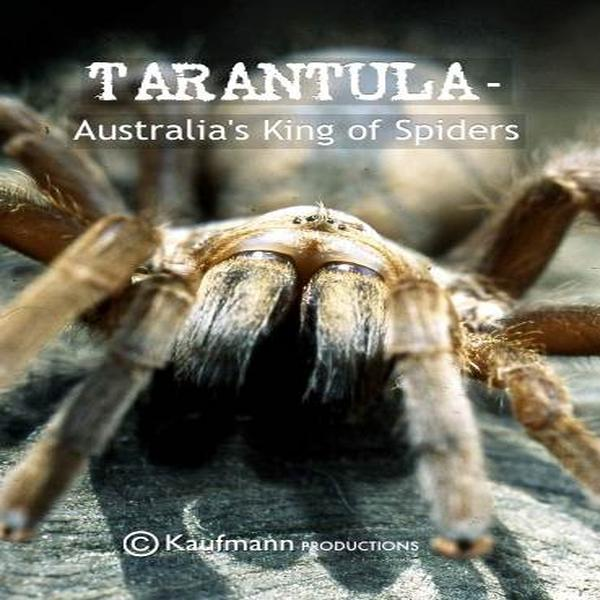Tarantula Spider: (6, 111, 600, 550)
